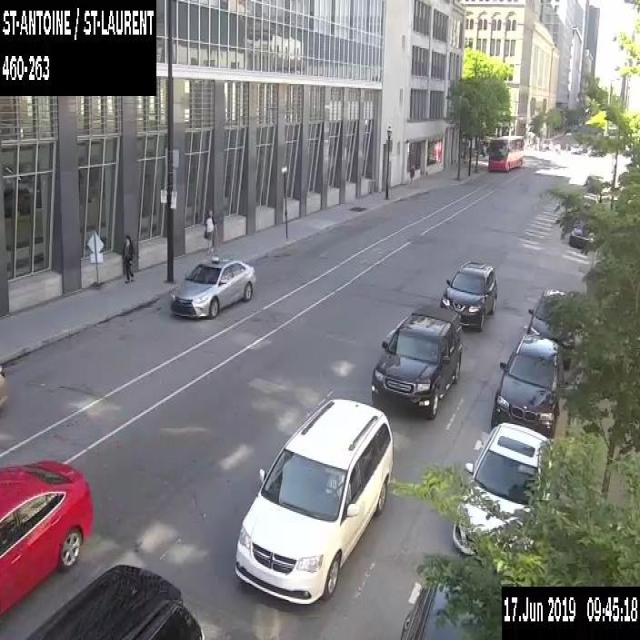bus: (487, 134, 524, 170)
construction: (85, 228, 103, 288)
pedestrian: (121, 235, 134, 282), (203, 210, 217, 253), (409, 163, 414, 184)
vehicle: (233, 397, 393, 606), (0, 456, 93, 615), (452, 422, 555, 558), (30, 561, 205, 639), (370, 303, 462, 418), (490, 332, 563, 438), (168, 254, 256, 318), (399, 574, 483, 639), (440, 259, 497, 331), (526, 286, 576, 368), (568, 226, 595, 249), (0, 364, 8, 407), (584, 172, 603, 190), (581, 190, 600, 202), (542, 137, 553, 149), (570, 142, 580, 153), (587, 144, 598, 154)
